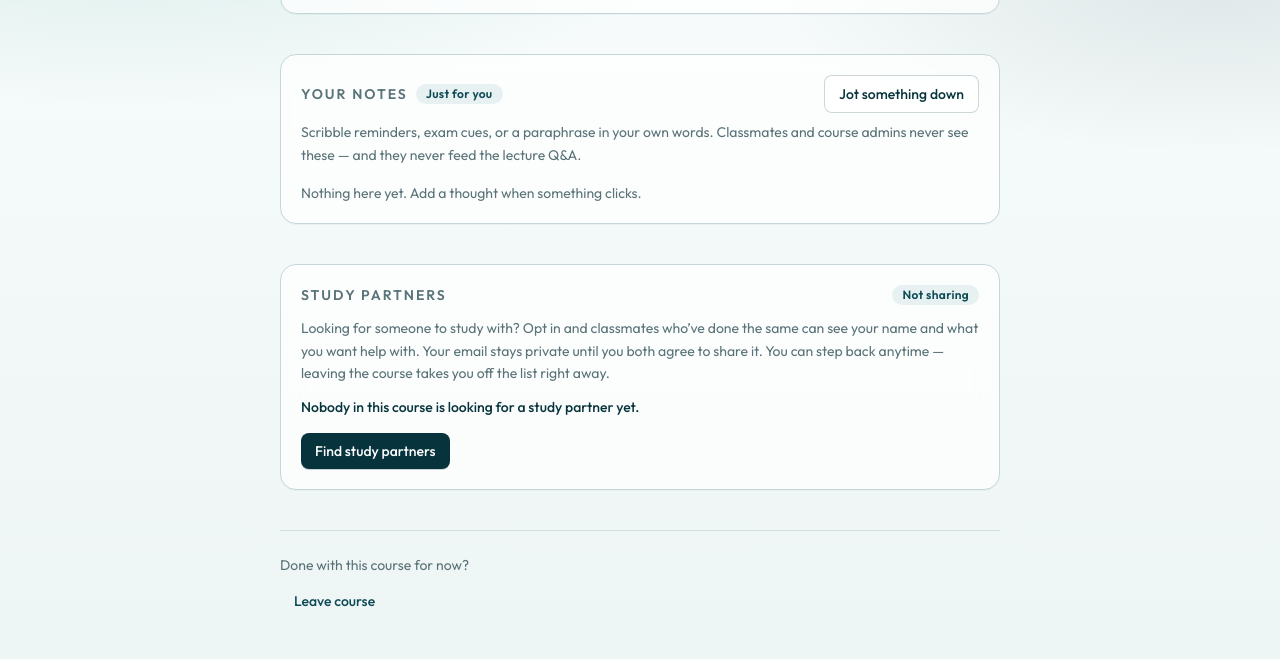
it: material pages › hides materials after the student unenrolls
(page scrolled)
Click the button "Leave course" at (335, 601), box [280,583,389,619]
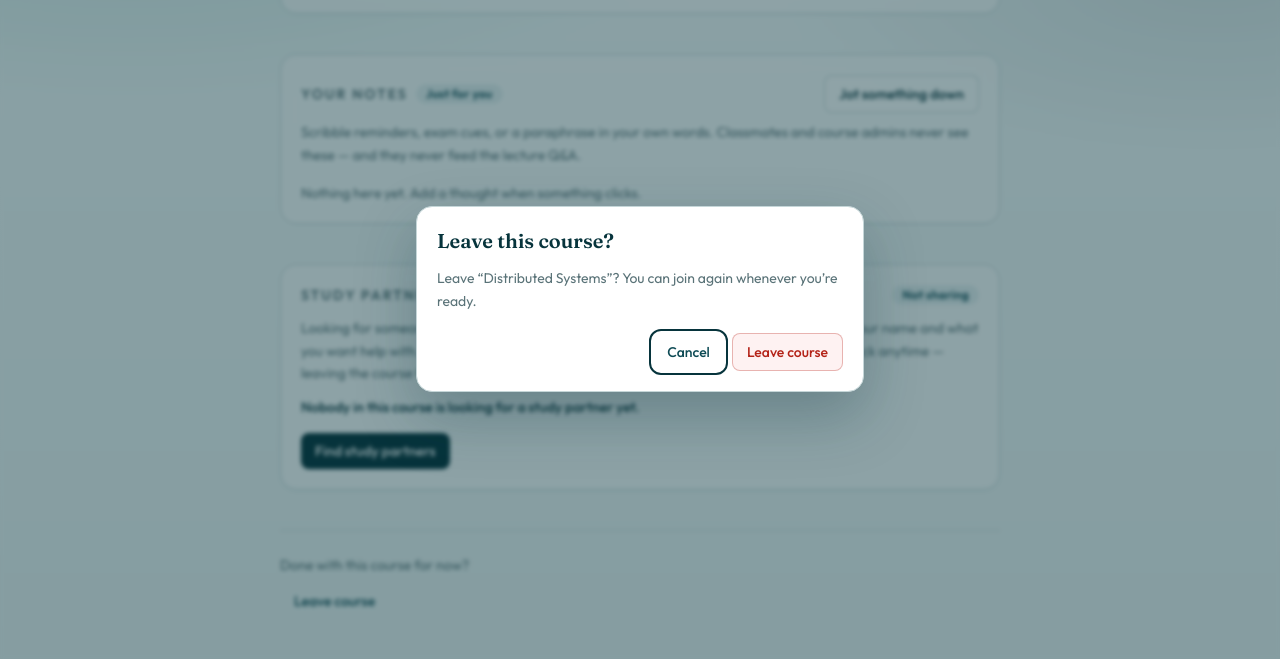
Click the button "Leave course" at (787, 352), box [732,333,843,371]
(page scrolled)
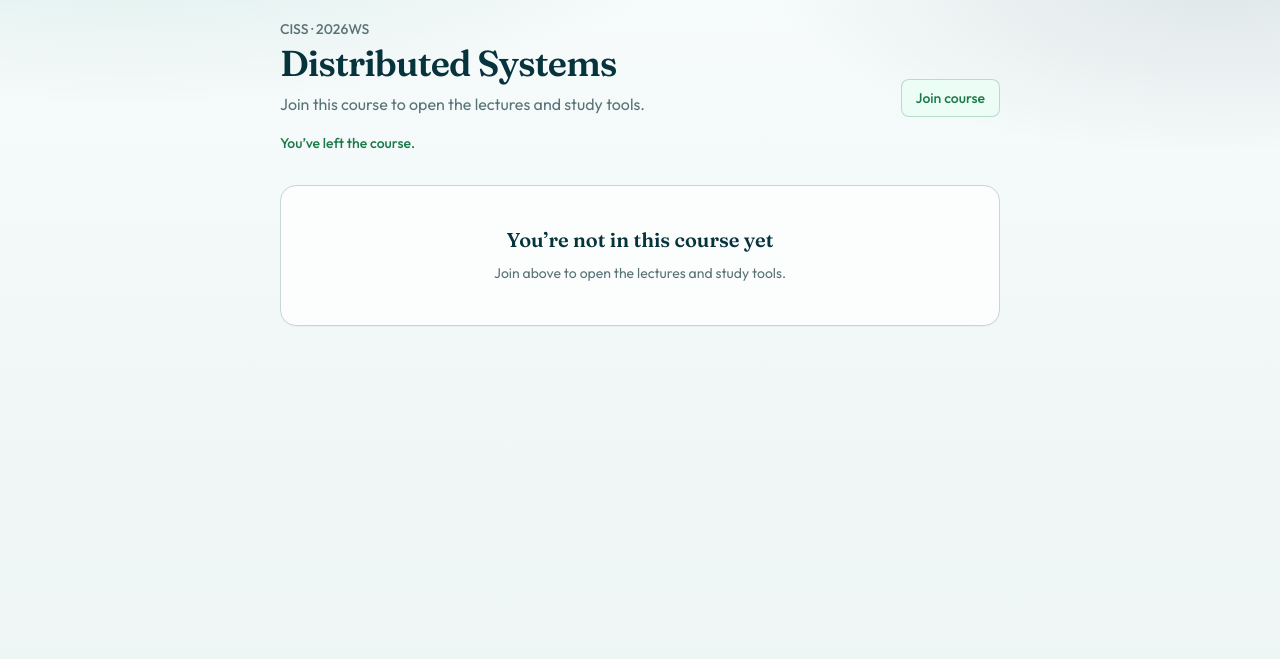
Check: the text "You’re not in this course yet" is shown, box [507,227,773,252]
